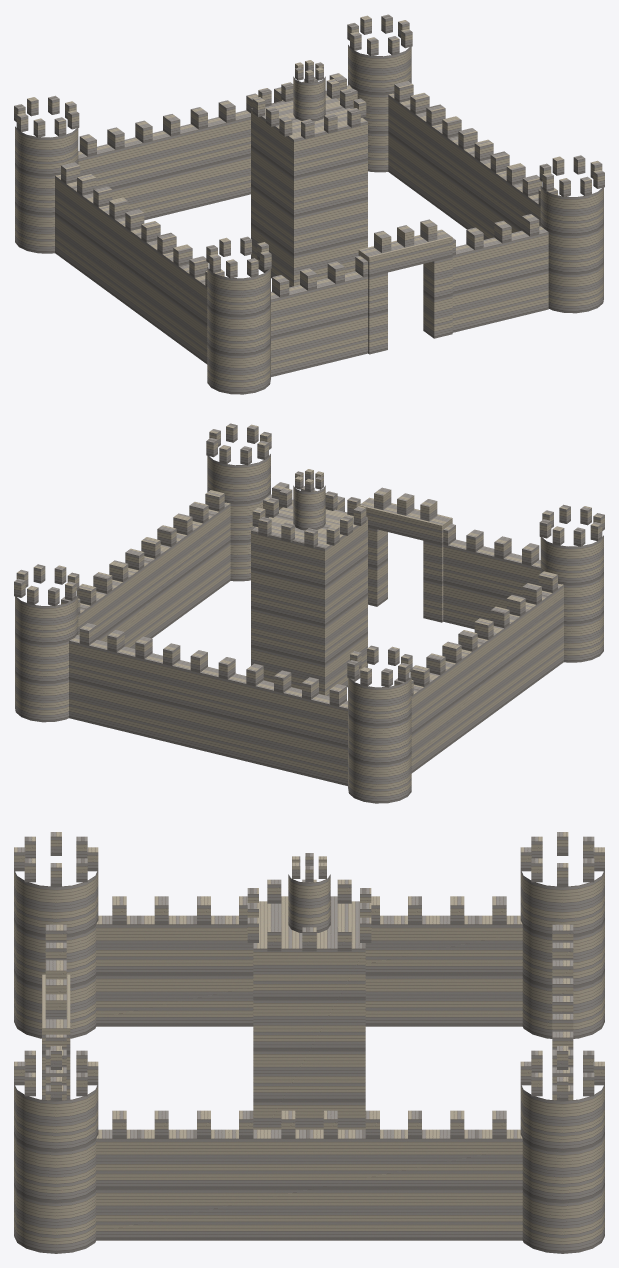
The model's file is castle.glb.
The picture shows the model from 3 angles, top to bottom: view 1: azimuth 30°, elevation 25°; view 2: azimuth 150°, elevation 25°; view 3: azimuth 270°, elevation 25°; orthographic projection. The views are drawn at different scales.
Visible parts, largest first — view 1: Castle; view 2: Castle; view 3: Castle.
Part boxes in pixels (left/top/right/bottom): Castle: left=14, top=14, right=604, bottom=394; Castle: left=14, top=423, right=604, bottom=803; Castle: left=14, top=832, right=604, bottom=1253.
Bounding box in the file's own units: 42 × 21 × 42.
1 material, 1 textured.
